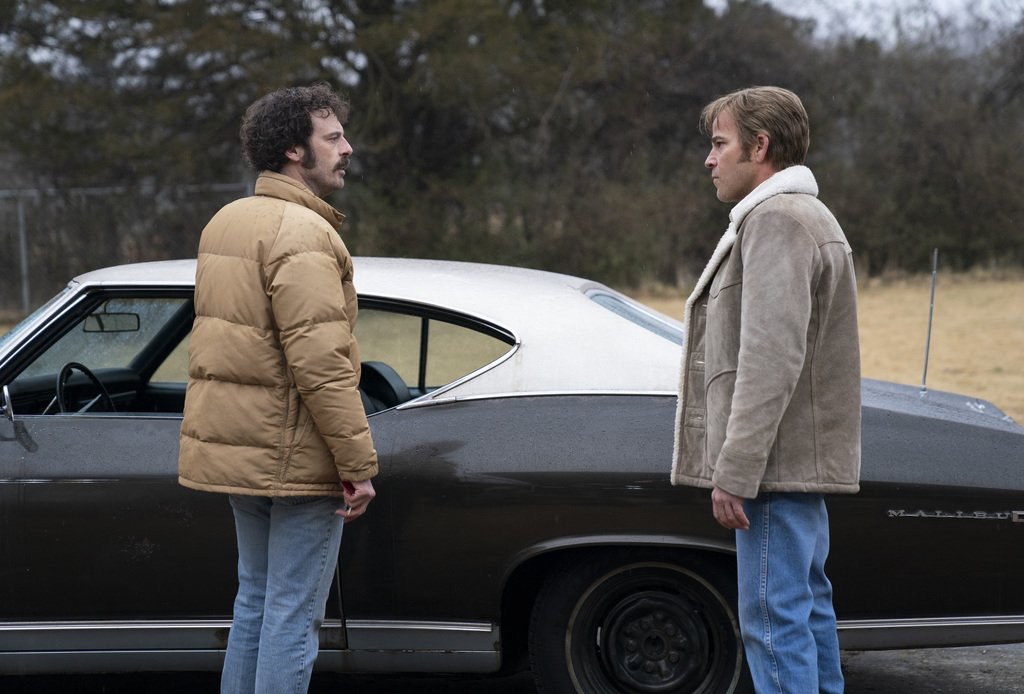person: (173, 82, 407, 692), (665, 84, 884, 691)
